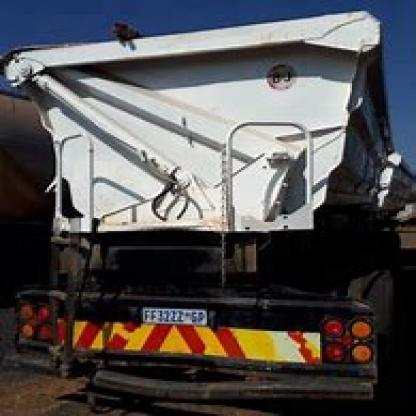dump_truck: (11, 9, 414, 405)
